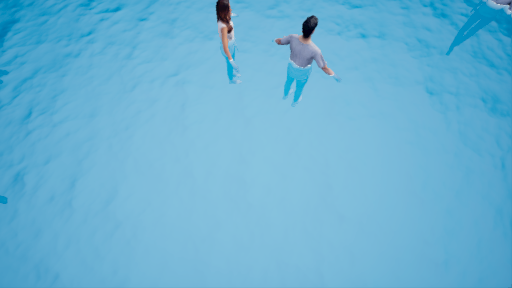person: (208, 1, 263, 100), (277, 19, 336, 106)
